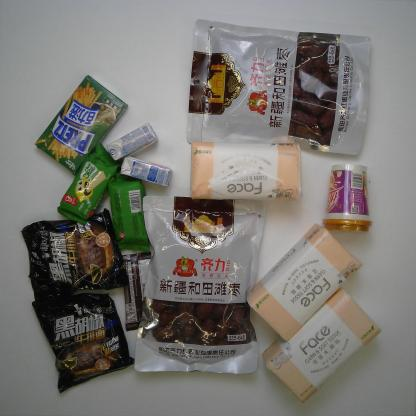Chocolate: (122, 251, 152, 332)
Dessert: (34, 73, 130, 176), (56, 141, 121, 226), (106, 174, 150, 254)
Dried Food: (184, 18, 372, 157), (133, 194, 267, 376)
Instant Drink: (321, 162, 374, 235)
Instant Noodles: (31, 292, 135, 394), (19, 207, 126, 301)
Milk: (105, 122, 159, 162), (119, 154, 172, 188)
Tissue: (244, 223, 364, 342), (261, 287, 383, 403), (189, 139, 305, 202)
